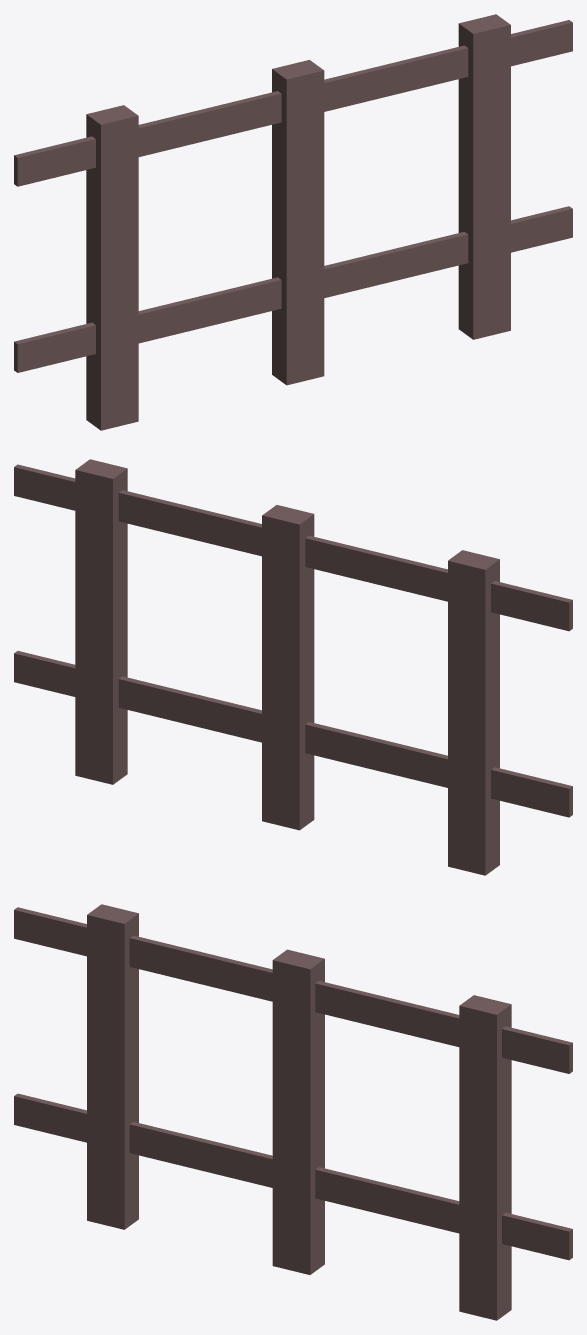
Rendered from fence2.FBX.
The picture shows the model from 3 angles, top to bottom: view 1: azimuth 30°, elevation 25°; view 2: azimuth 150°, elevation 25°; view 3: azimuth 330°, elevation 25°; orthographic projection.
Parts seen in each view (by area): view 1: fence2; view 2: fence2; view 3: fence2.
Part boxes in pixels (x1=…): fence2: x1=14, y1=14, x2=572, y2=430; fence2: x1=14, y1=459, x2=572, y2=875; fence2: x1=14, y1=904, x2=572, y2=1320.
Size of the model in its own units: 7.6 by 4 by 0.3462.
